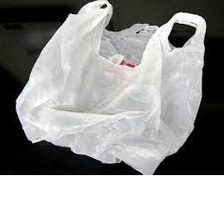plastic_bag: (14, 0, 208, 177)
